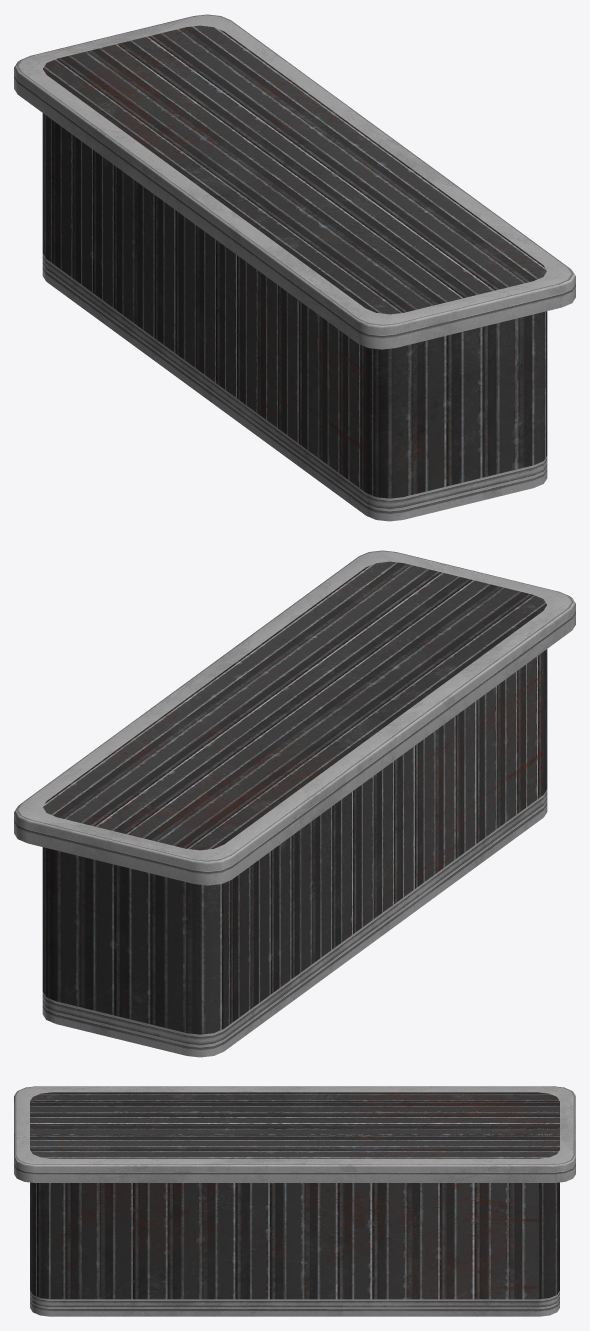
The model's file is CP_Diner_Counter.fbx.
The picture shows the model from 3 angles, top to bottom: view 1: azimuth 30°, elevation 25°; view 2: azimuth 150°, elevation 25°; view 3: azimuth 270°, elevation 25°; orthographic projection. The views are drawn at different scales.
Visible parts, largest first — view 1: CP_Diner_Counter; view 2: CP_Diner_Counter; view 3: CP_Diner_Counter.
Boxes of the visible parts, x1,y1,x2,y2 form: CP_Diner_Counter: (14,14,575,521); CP_Diner_Counter: (14,550,575,1057); CP_Diner_Counter: (14,1086,575,1316).
Bounding box in the file's own units: 107 × 98.7 × 318.
